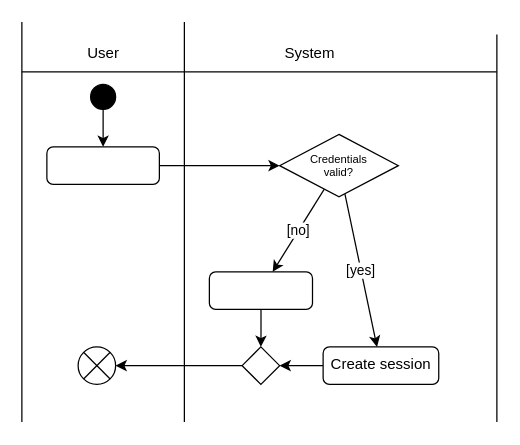
Image size: 520x445. Some labels were removed from this diagram. Here are the shapes that lost their labels. From the top down, the centre of each, then its label:
the point at 102,165: Click login
the point at 260,290: Send error
